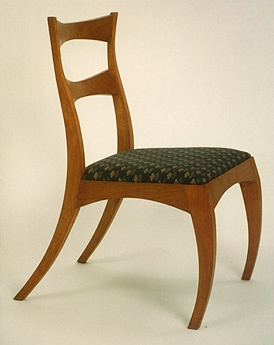obstacle: (14, 12, 261, 328)
